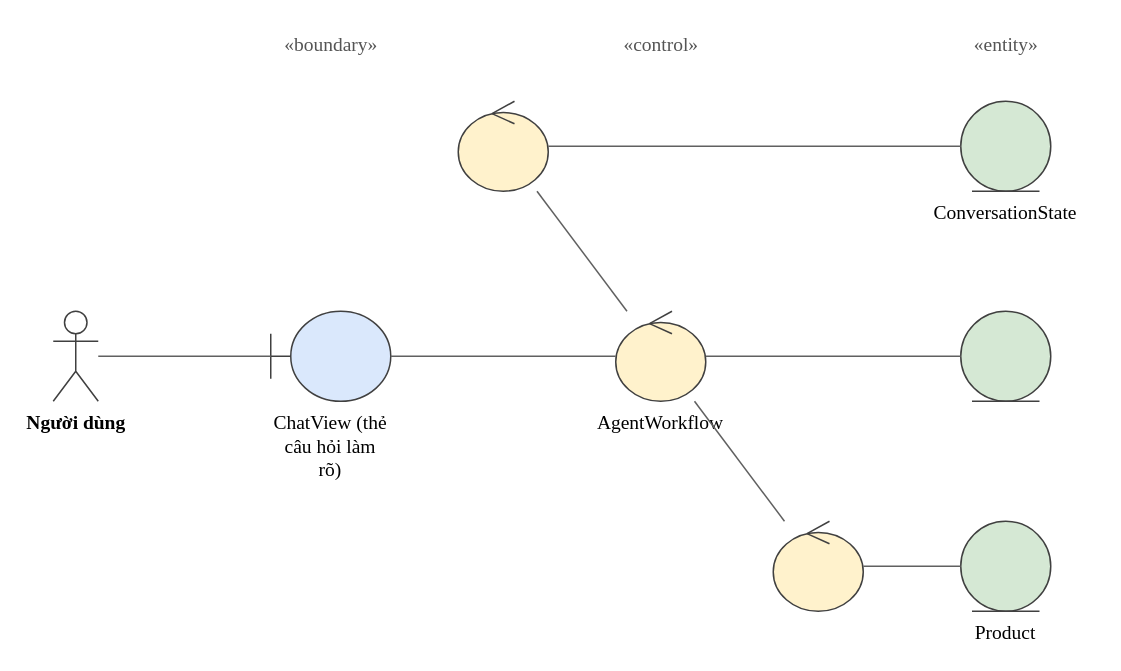
This 1121x671 diagram has some shape labels left out. Each missing label, with the box of its shape:
EcomSearchTool: (772, 520, 863, 611)
SearchCriteria: (959, 310, 1051, 401)
SessionMemory: (457, 100, 548, 191)
